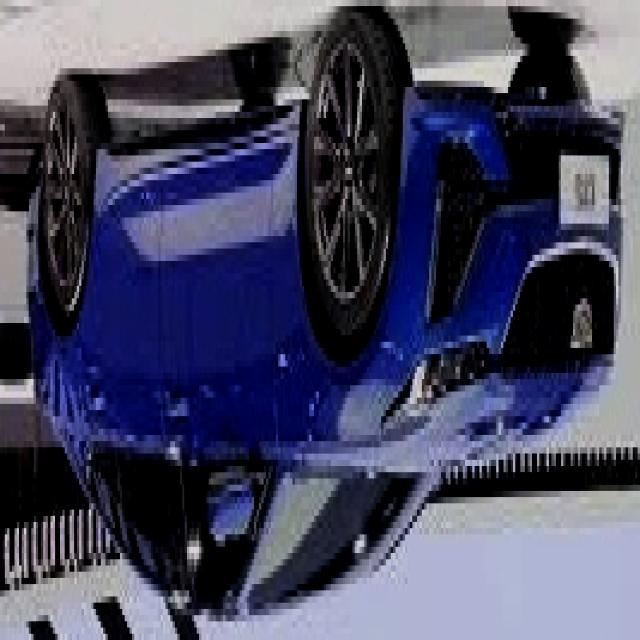blue: (27, 0, 625, 624)
